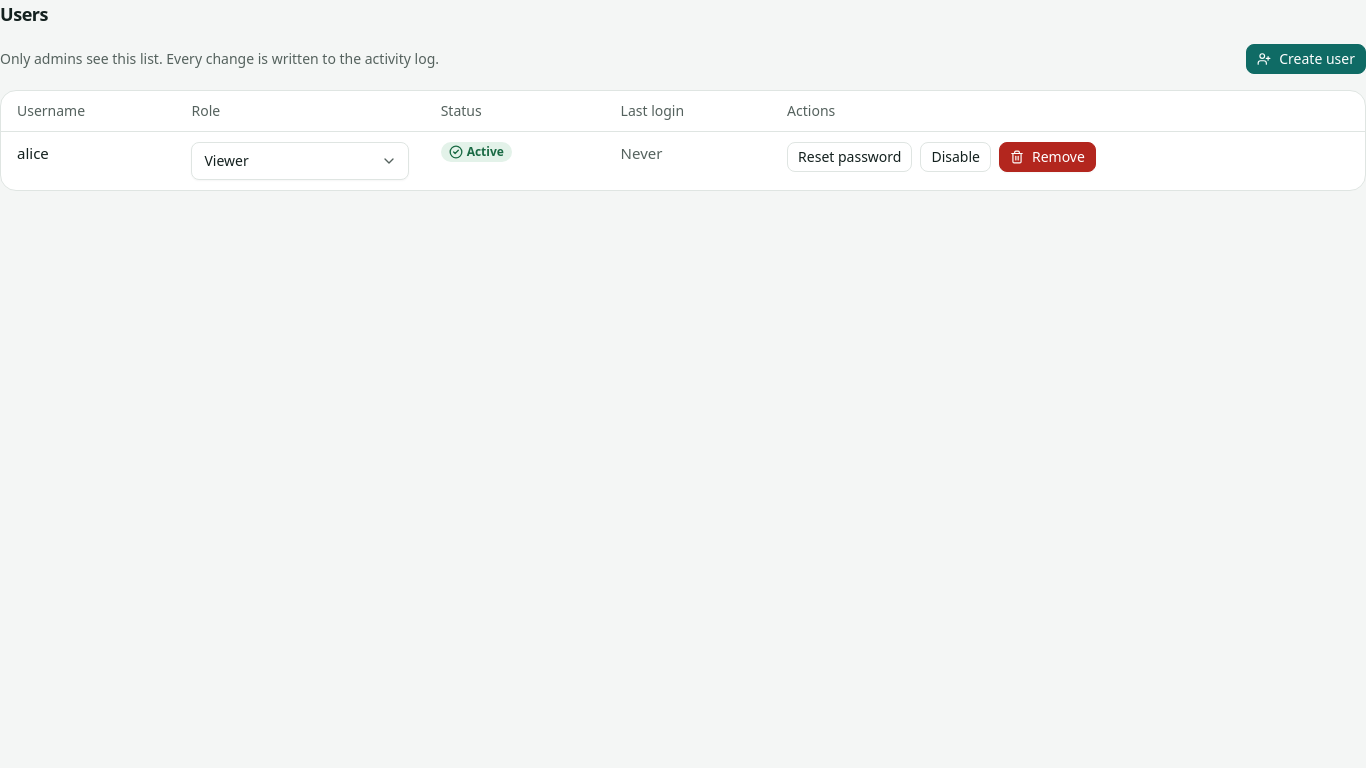
Test: UsersAdmin actions › asks before removing, then removes and says the sessions ended
Expected: the table named "Users" is shown, top-left (1, 91), bottom-right (1365, 190)
What coordinates should you click on to do the following:
click the button with aria-label "Remove alice"
I would click on:
 (1047, 157)
Its box is top-left (999, 142), bottom-right (1096, 172).
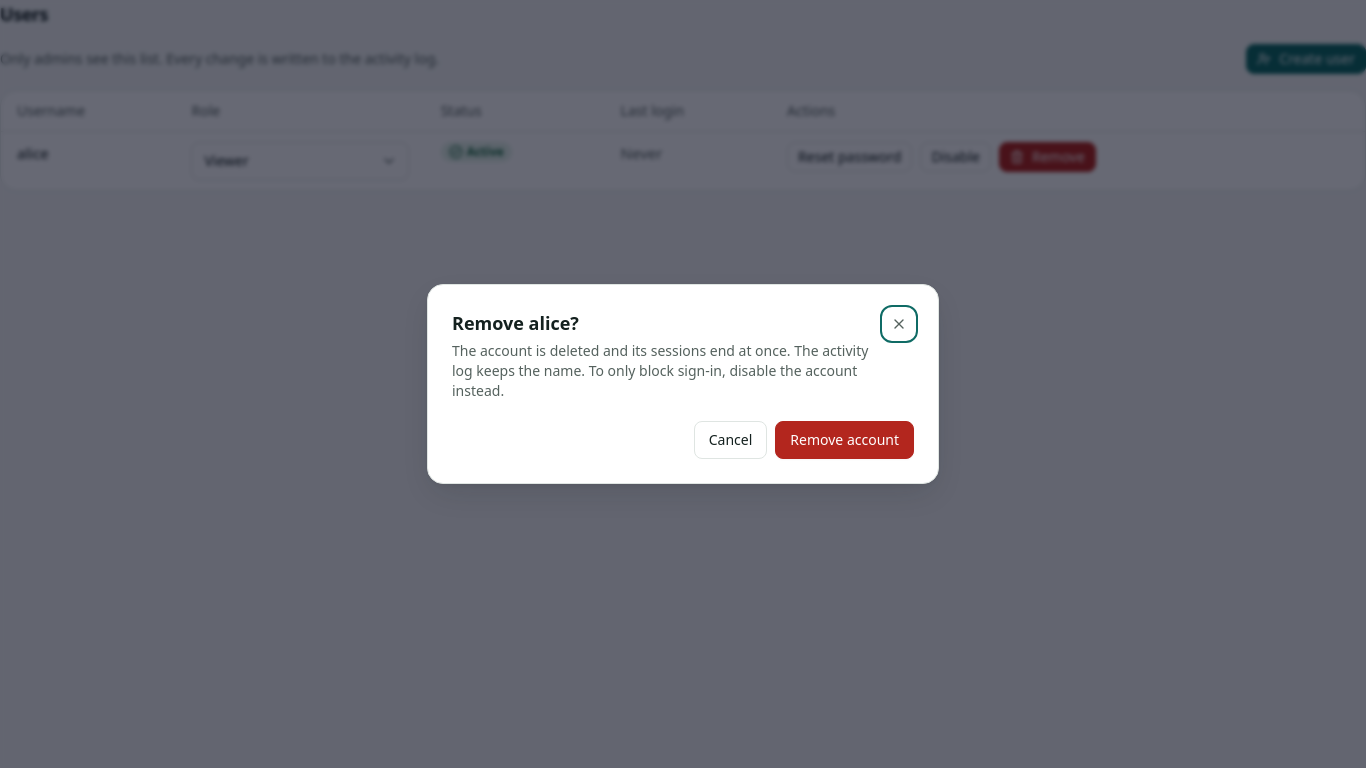
What coordinates should you click on to do the following:
click the button "Remove account"
I would click on:
 (845, 440)
Its box is top-left (775, 421), bottom-right (914, 459).
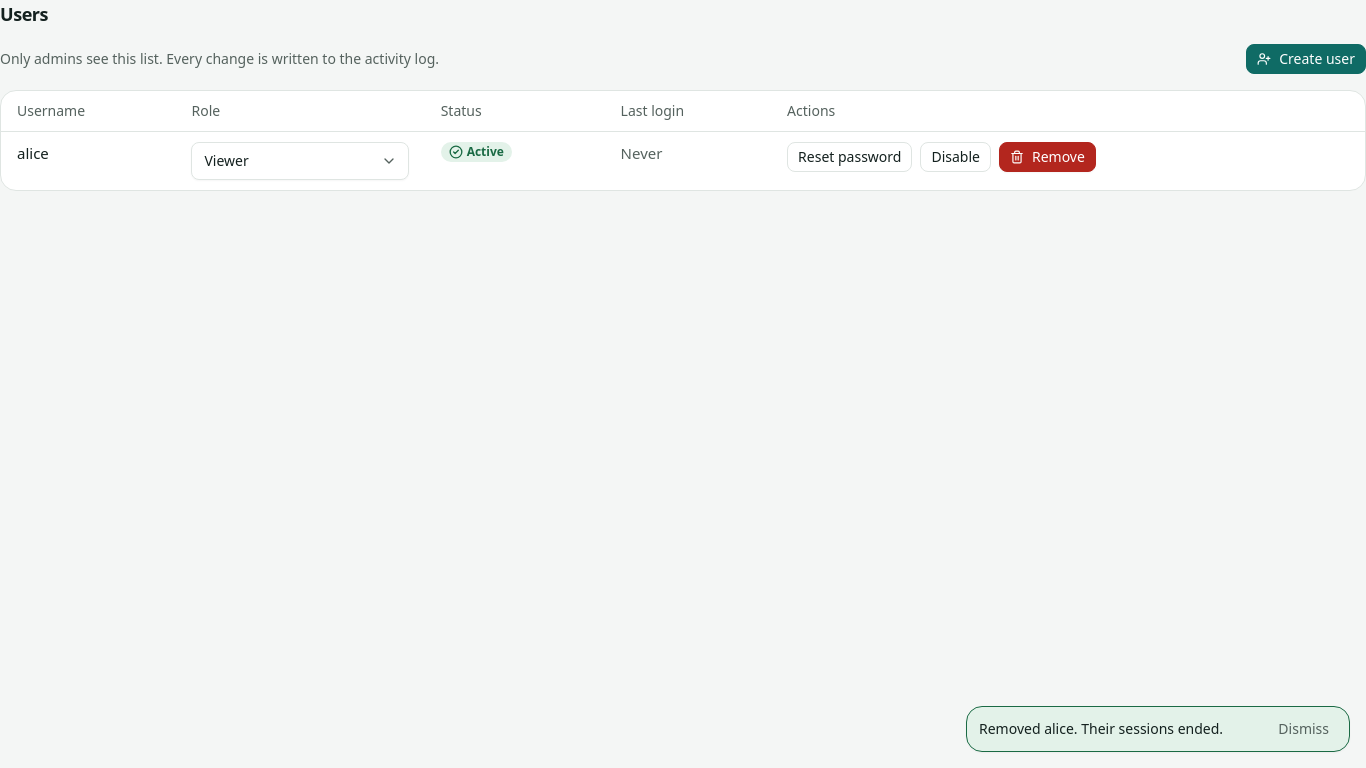
Result: the text "Removed alice. Their sessions ended." is shown at top-left (979, 719), bottom-right (1223, 739)
